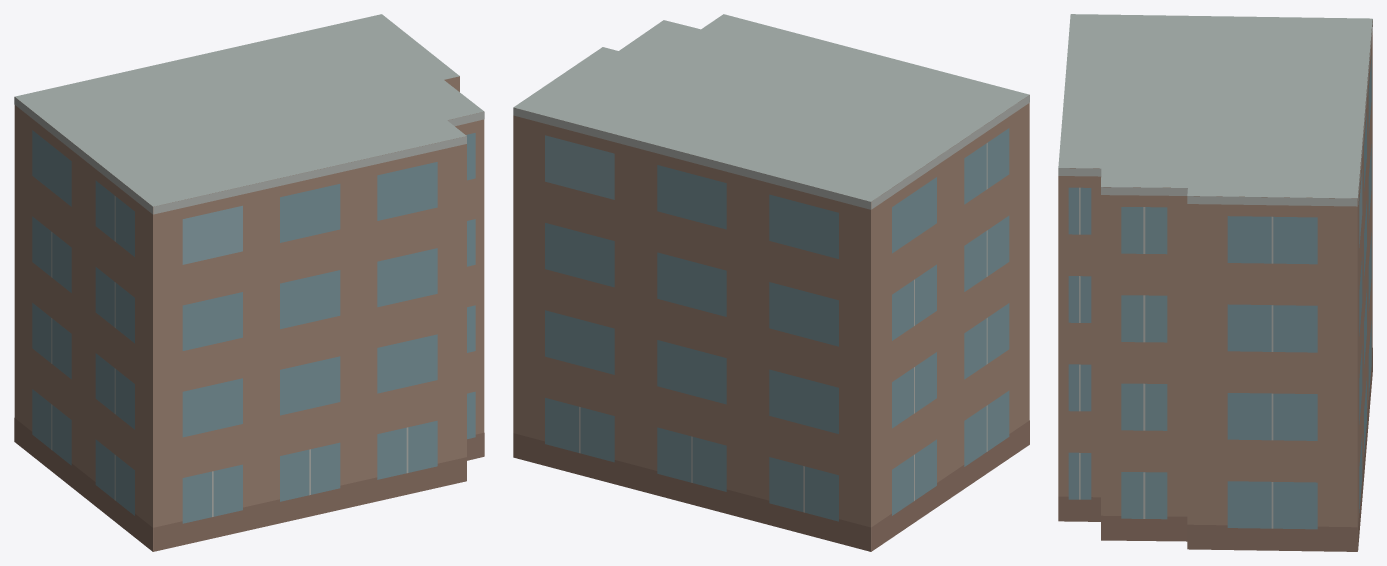
File: survey-upis-32838817.glb
3 views of the same model, side by side, from view 1: azimuth 30°, elevation 25°; view 2: azimuth 150°, elevation 25°; view 3: azimuth 270°, elevation 25° (orthographic). The views are drawn at different scales.
Visible parts, largest first — view 1: survey-upis-32838817.tmp; view 2: survey-upis-32838817.tmp; view 3: survey-upis-32838817.tmp.
Boxes of the visible parts, x1,y1,x2,y2 form: survey-upis-32838817.tmp: [14, 14, 484, 551]; survey-upis-32838817.tmp: [513, 14, 1029, 551]; survey-upis-32838817.tmp: [1058, 14, 1372, 551].
Size of the model in its own units: 11.99 by 10.7 by 8.64.
